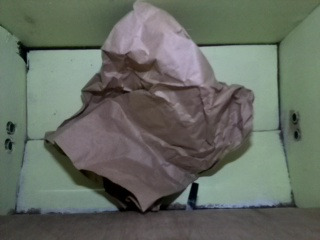paper: (44, 1, 255, 211)
